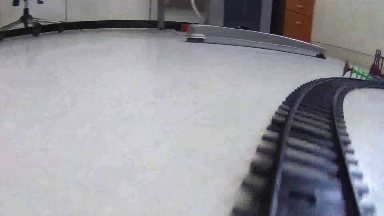tree: (341, 58, 384, 82)
